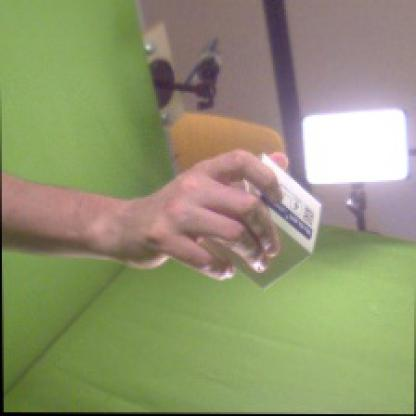Hand: (115, 148, 290, 282)
